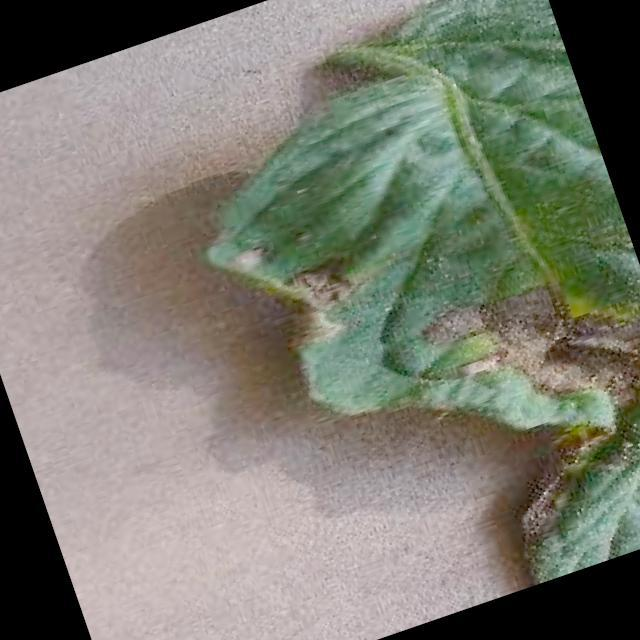Tomato Early blight leaf: (158, 0, 640, 640)
